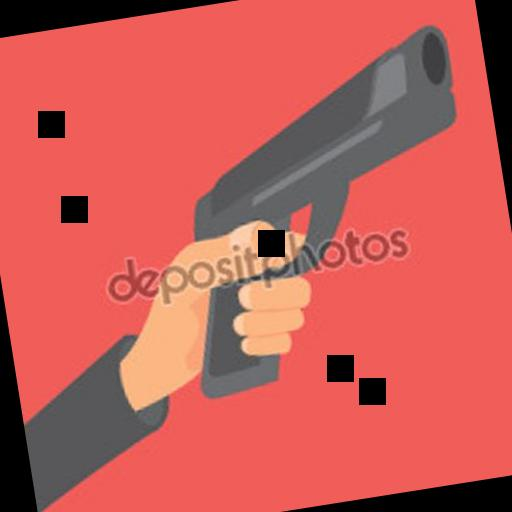Handgun: (143, 20, 501, 399)
